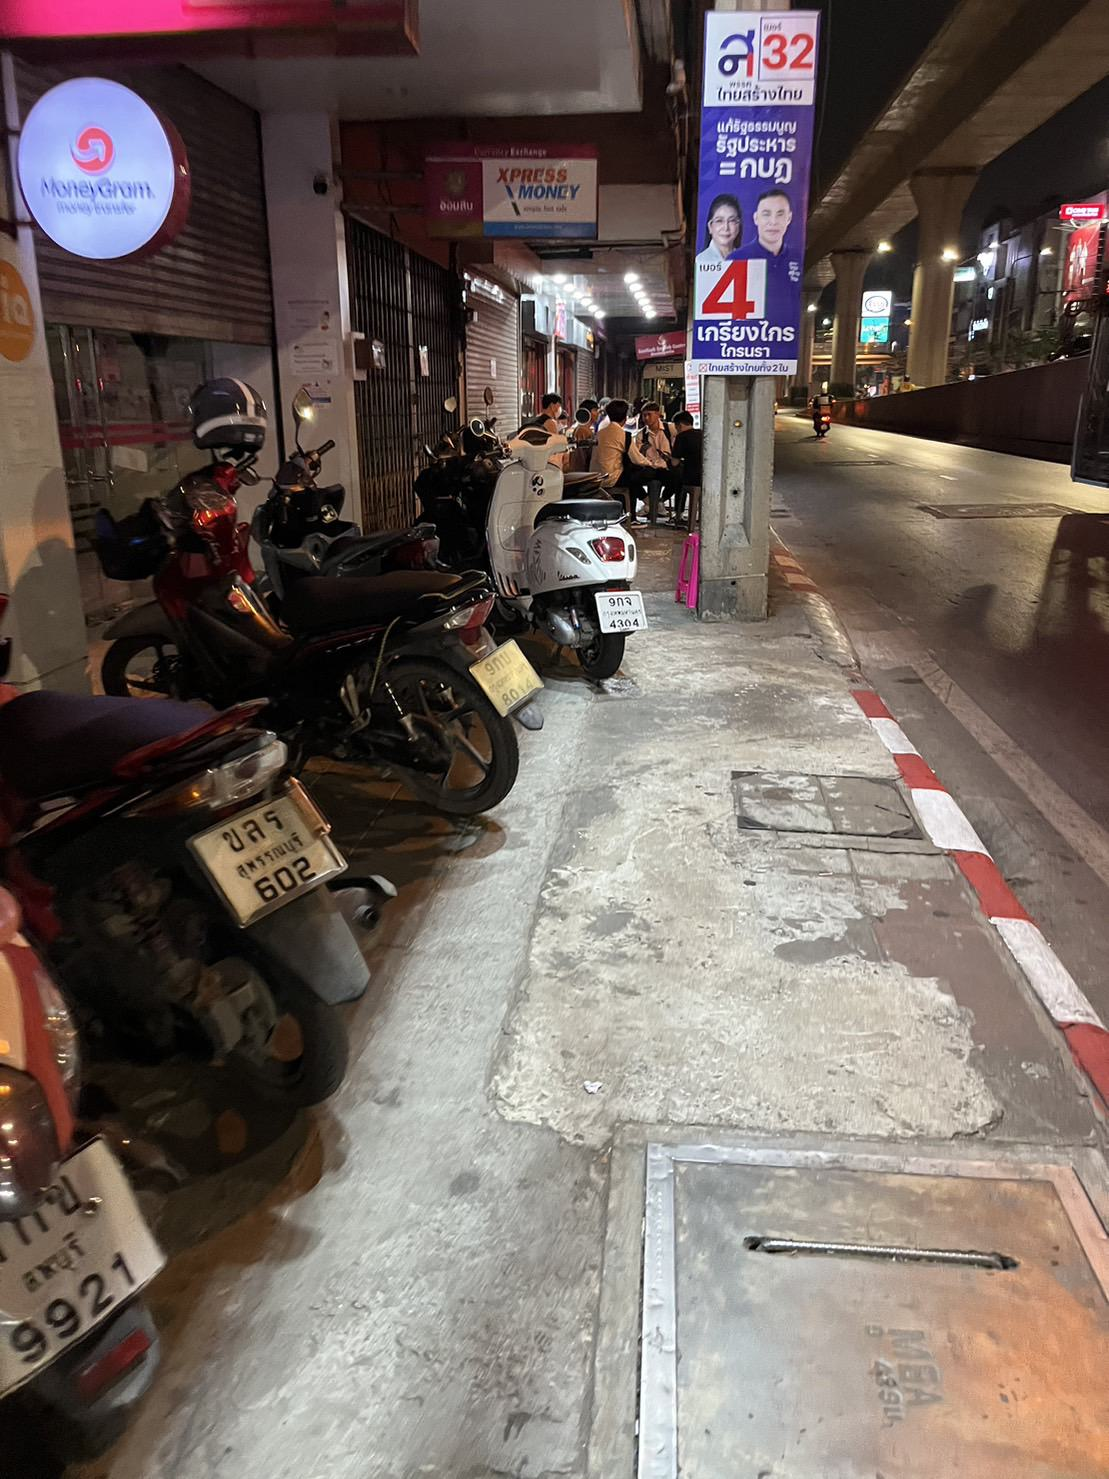Banner: (693, 7, 814, 392)
